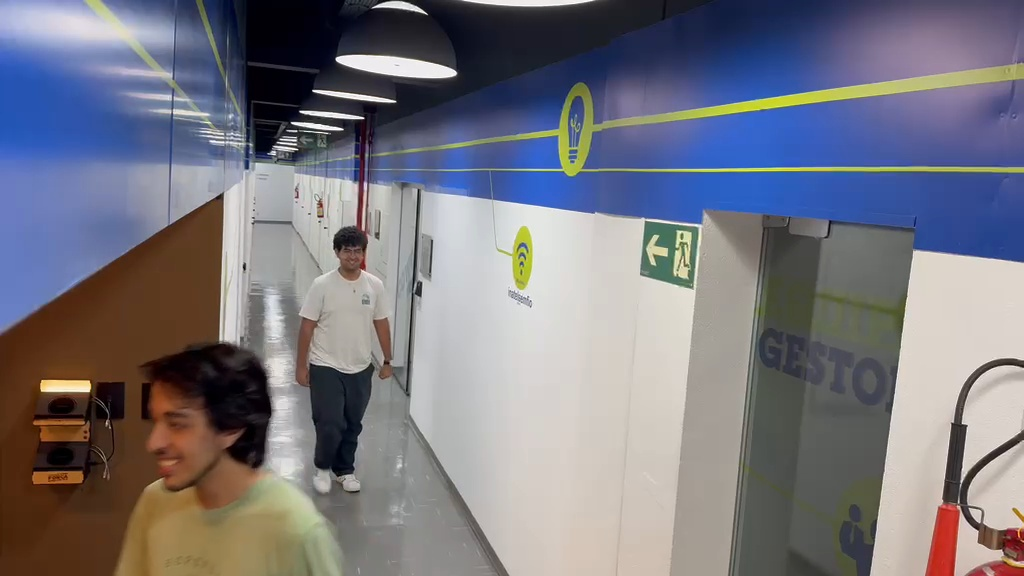person: (112, 342, 345, 571), (296, 225, 397, 495)
